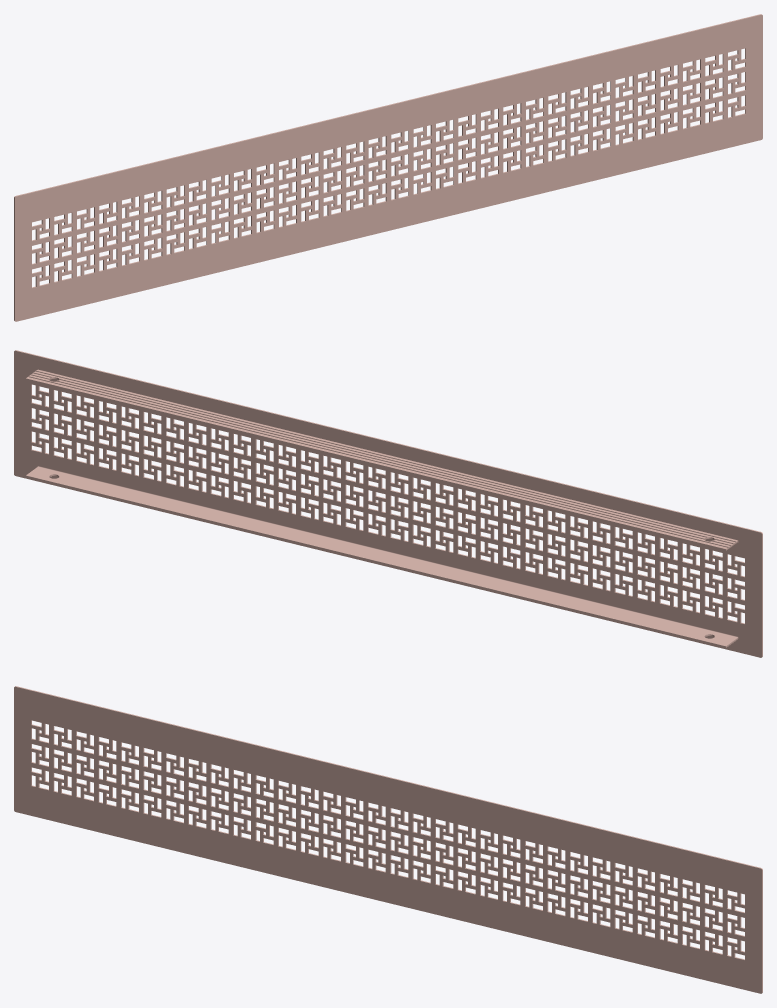
Rendered from air-net.glb.
The picture shows the model from 3 angles, top to bottom: view 1: azimuth 30°, elevation 25°; view 2: azimuth 150°, elevation 25°; view 3: azimuth 330°, elevation 25°; orthographic projection.
Size of the model in its own units: 0.5 by 0.08 by 0.015.
